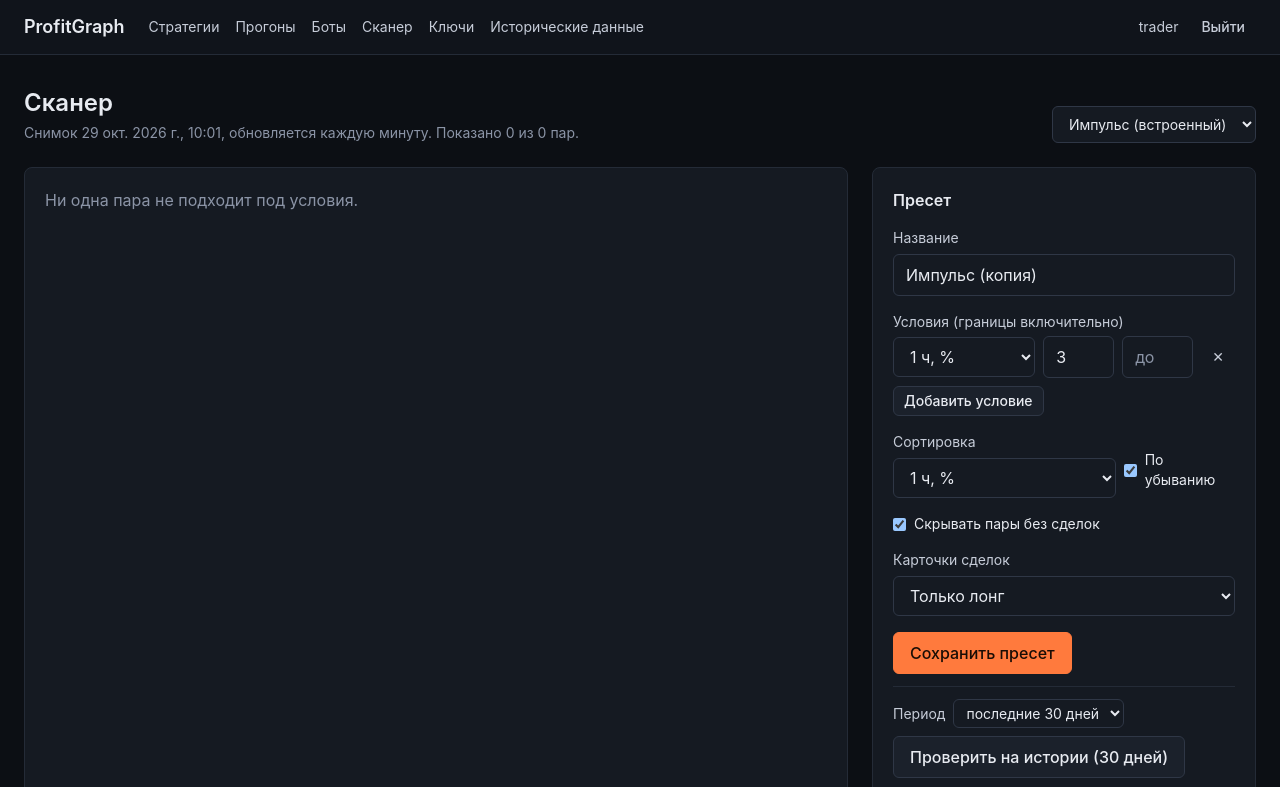
Test: scanner page › saves a copy of the built-in preset as the user own one
Replace the text in the field named "от" with "5" at (1079, 357), box [1043,336,1114,378]
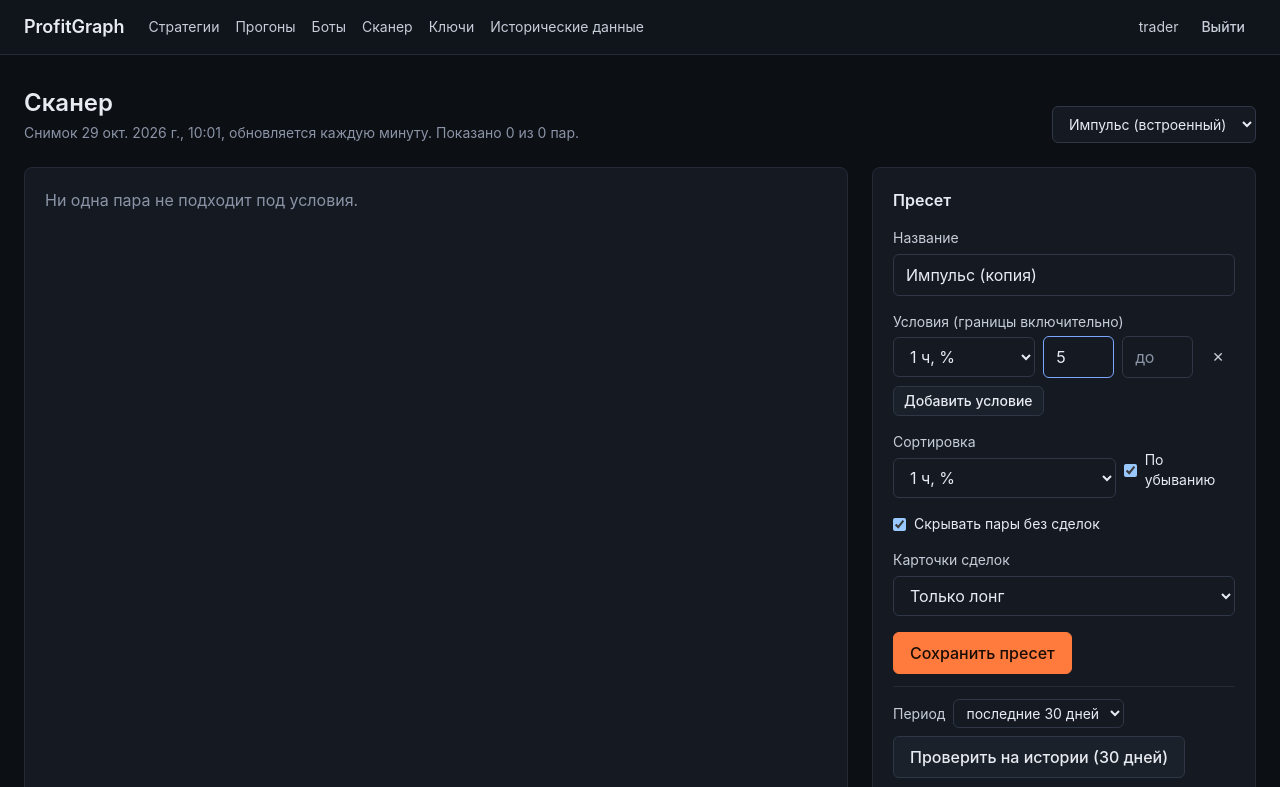
Click the button "Сохранить пресет".
click(982, 653)  # box [893,632,1072,674]
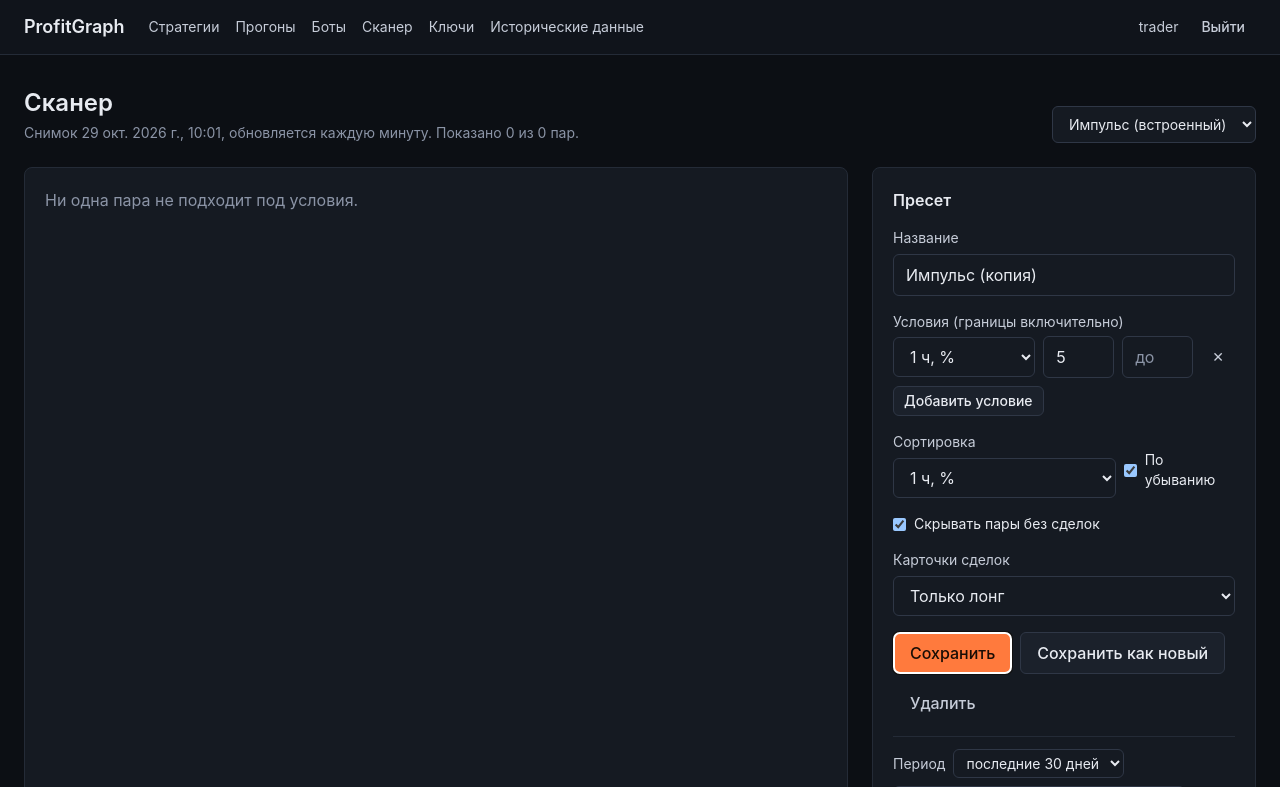
Check: the button "Сохранить как новый" is shown, box [1020,632,1225,674]
